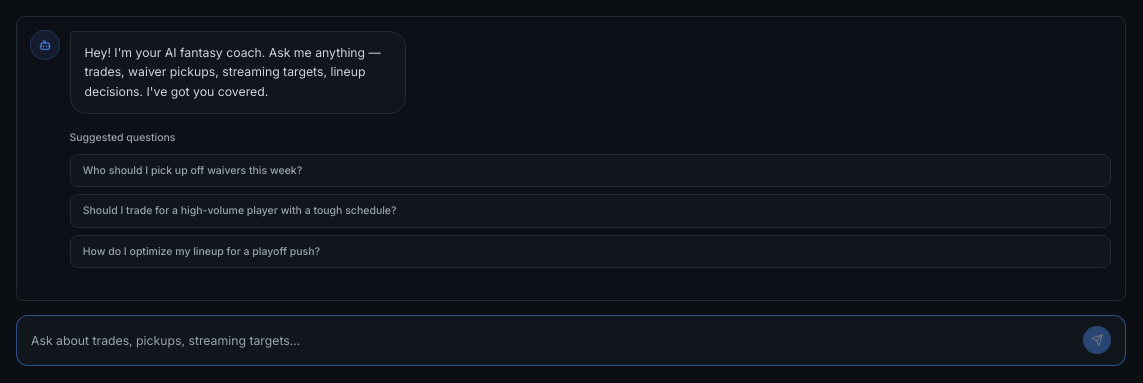
Scenario: the Coach chat client › shows agent steps and the answer from SSE frames
Type "How does my team look?" into the field at (552, 340), box [31, 332, 1072, 349]
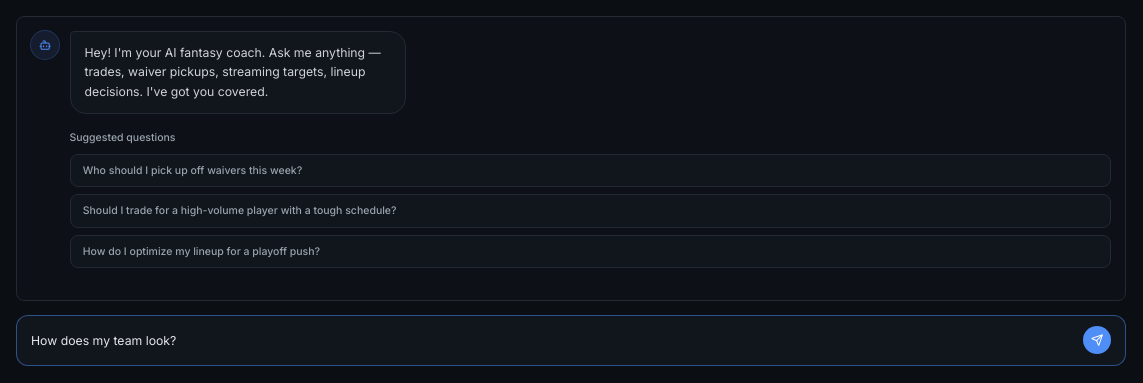
Press Enter
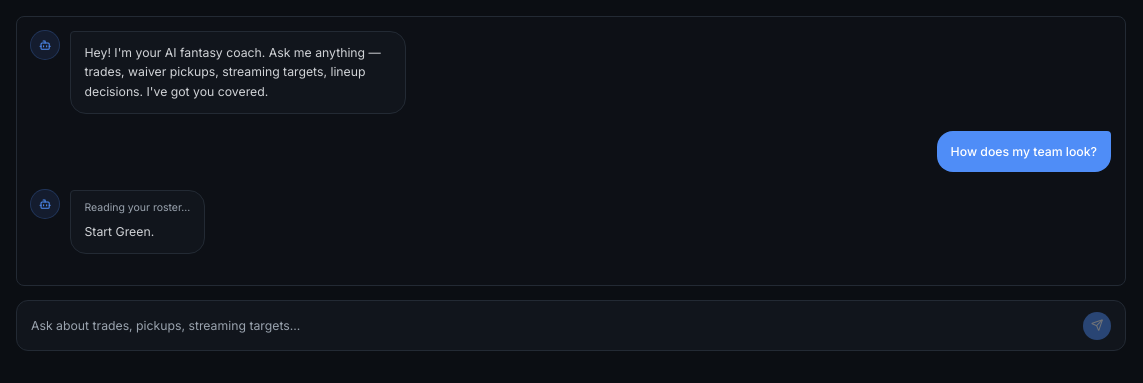
Result: the list item "Reading your roster..." is shown at [84, 201, 190, 215]
Result: the text "Start Green." is shown at [84, 224, 154, 239]
